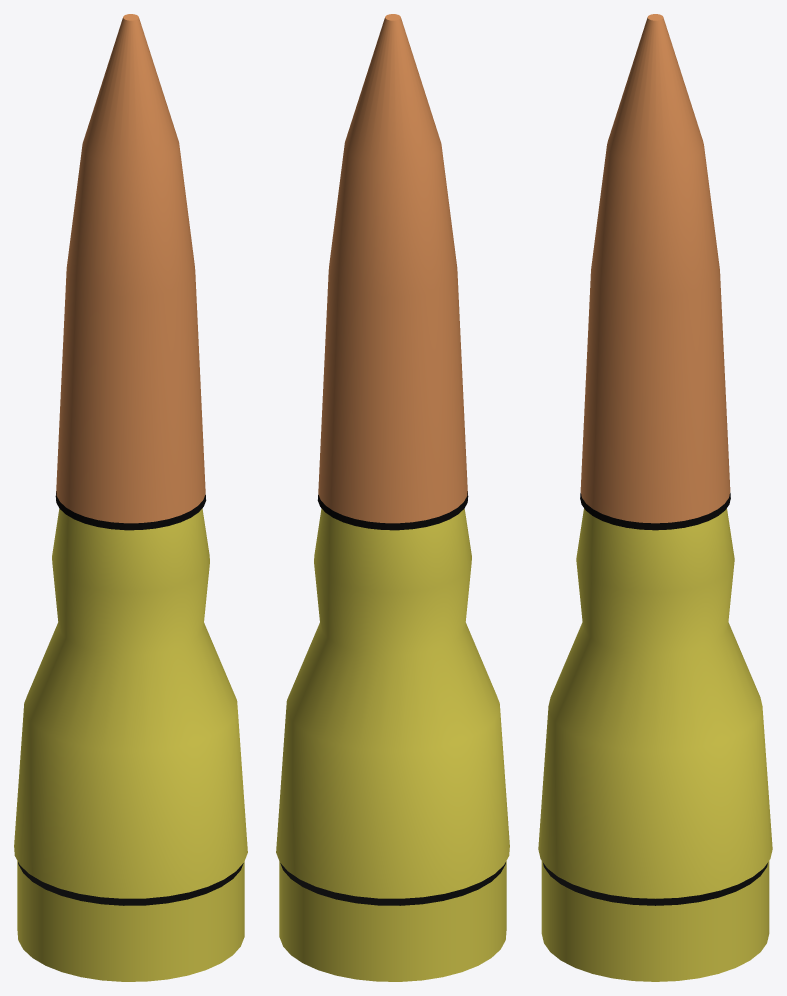
File: T2_Bullet.fbx
3 views of the same model, side by side, from view 1: azimuth 30°, elevation 25°; view 2: azimuth 150°, elevation 25°; view 3: azimuth 270°, elevation 25° (orthographic).
Visible parts, largest first — view 1: Bullet; view 2: Bullet; view 3: Bullet.
Part boxes in pixels (x1,y1,x2,y2): Bullet: [14, 14, 247, 981]; Bullet: [276, 14, 509, 981]; Bullet: [538, 14, 772, 981].
Bounding box in the file's own units: 0.2091 × 0.2091 × 0.9023.
